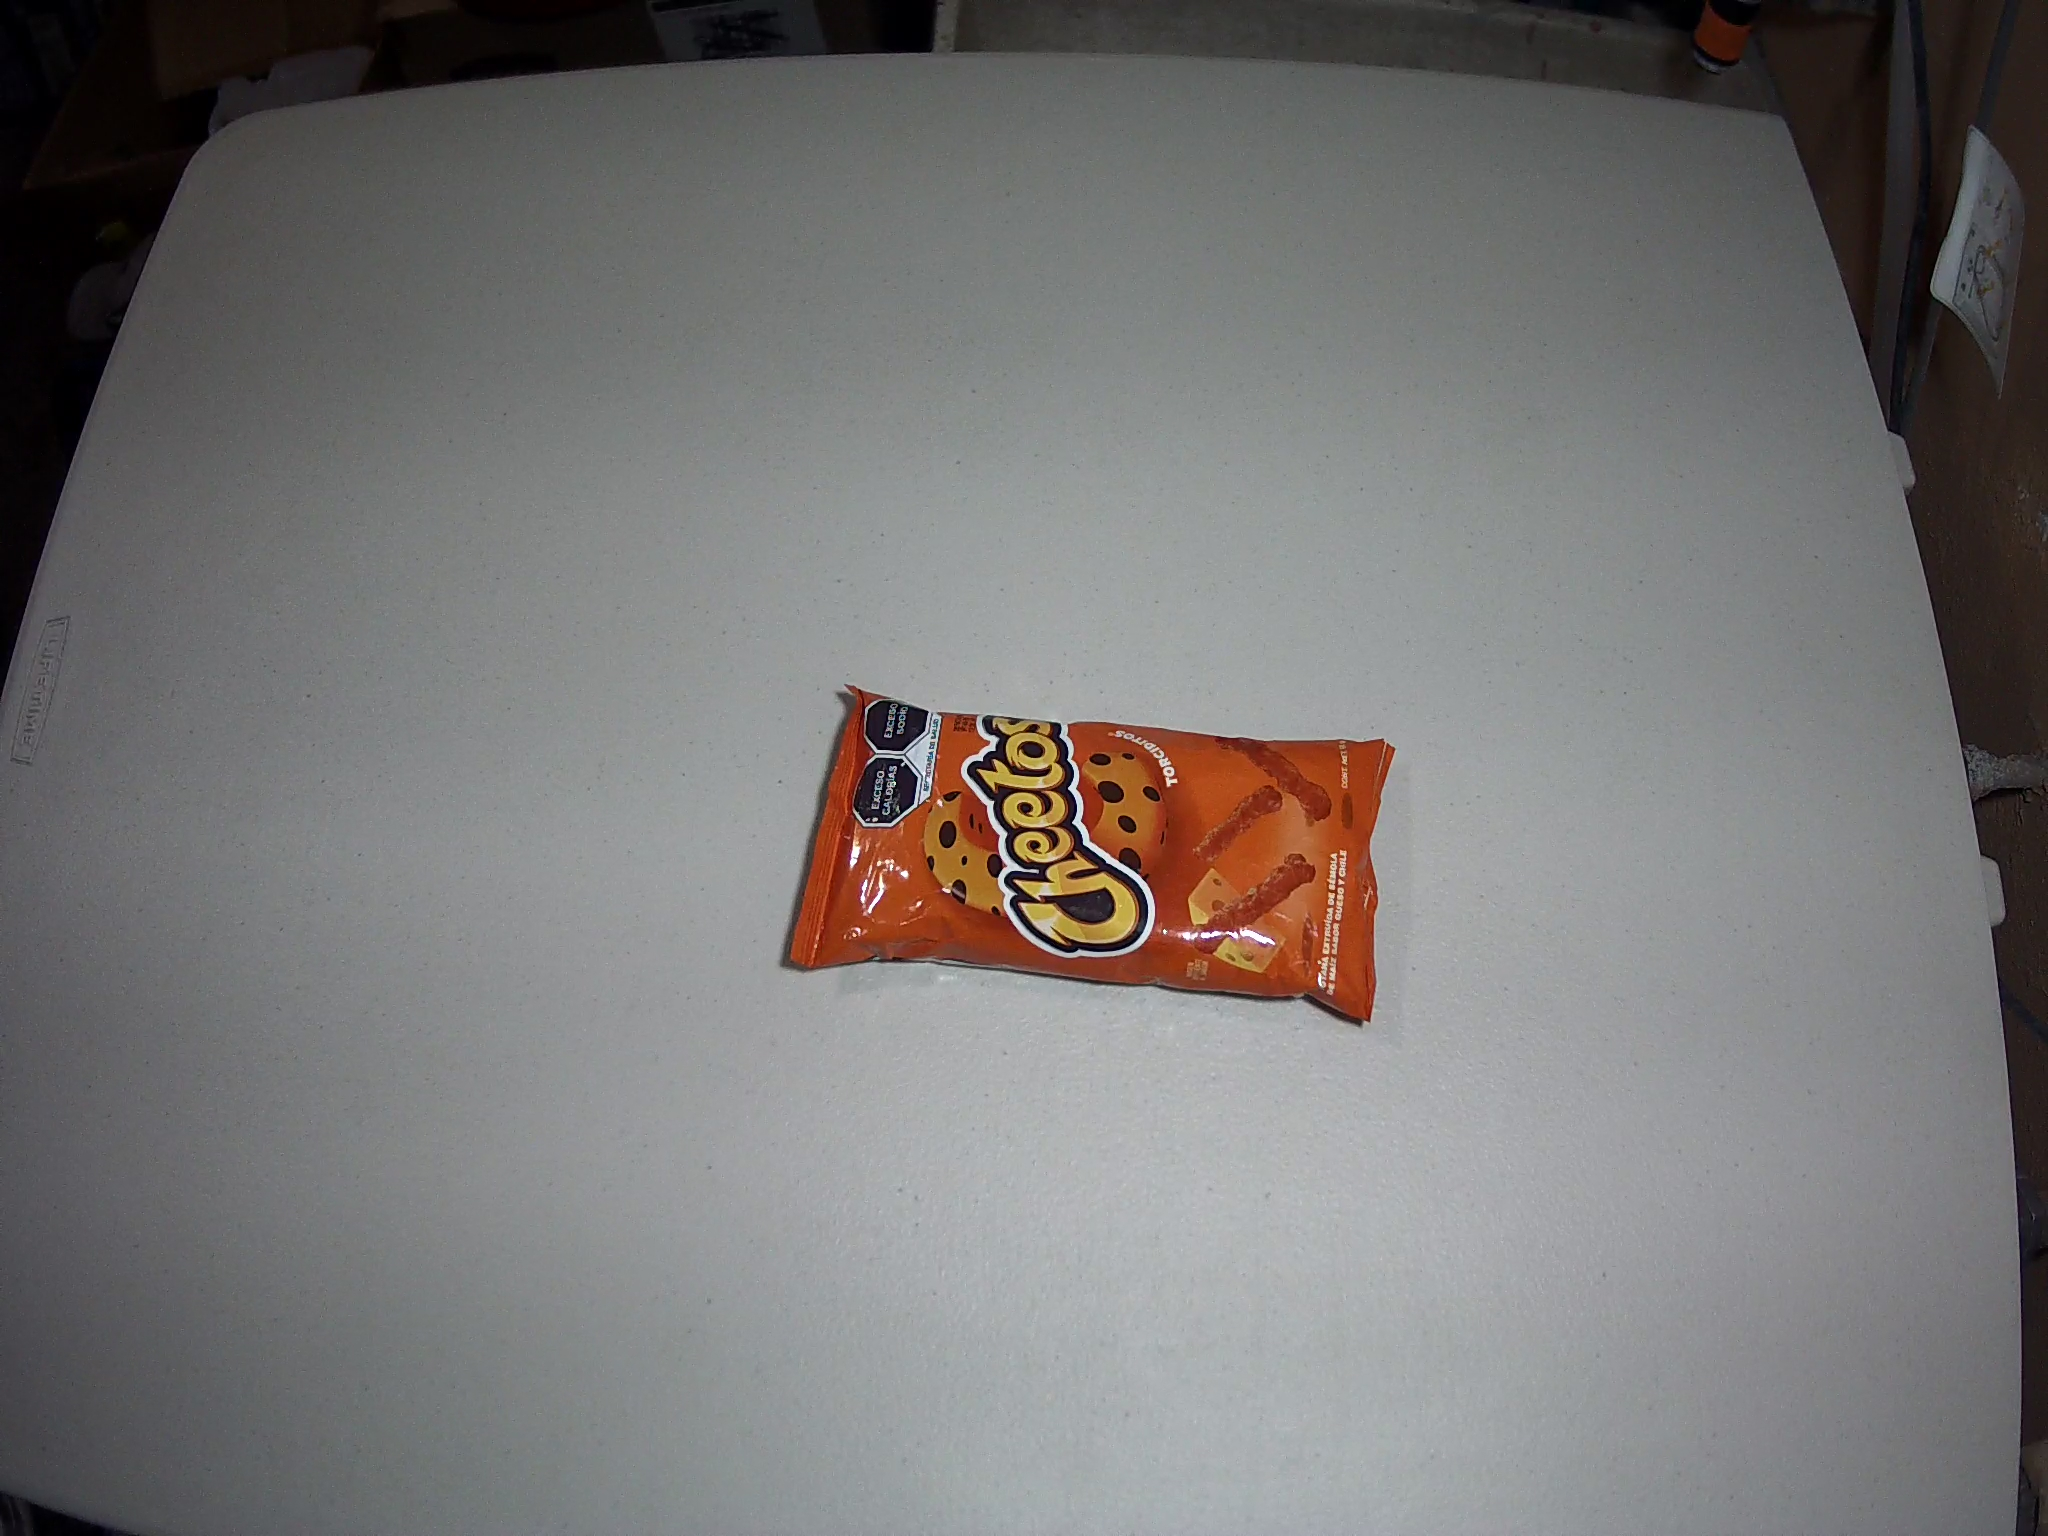CheetosTorciditos_55_F: (789, 681, 1398, 1025)
